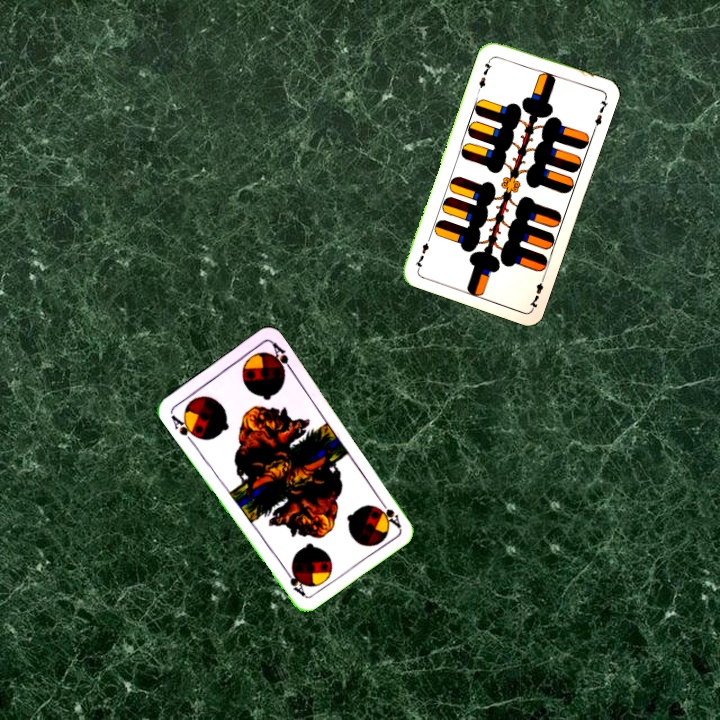E7: (474, 54, 496, 93), (525, 272, 547, 311)
SA: (167, 411, 201, 445), (374, 494, 403, 530)
